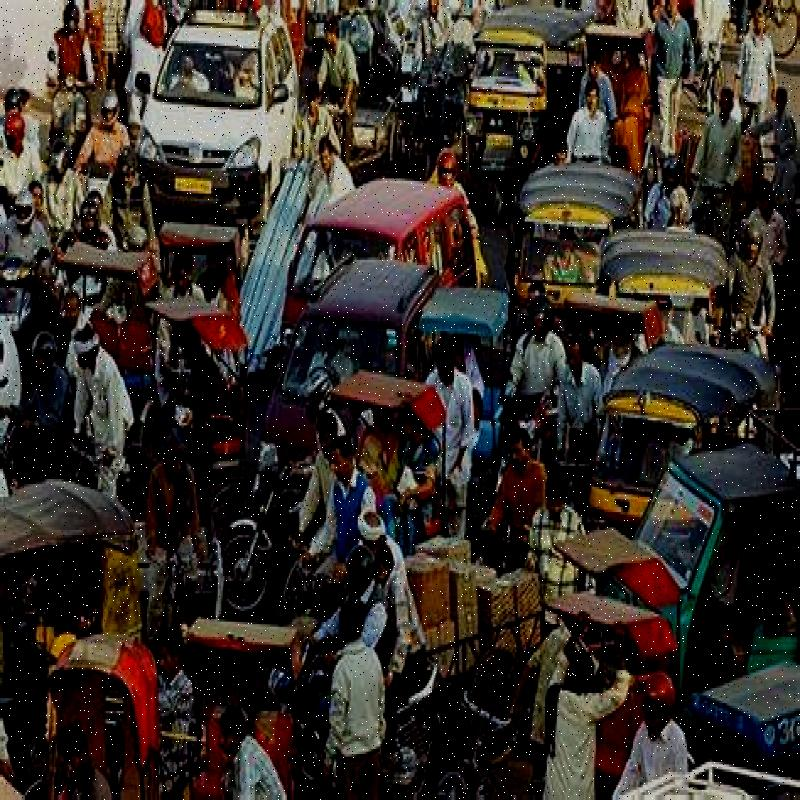car: (272, 274, 424, 534), (129, 7, 301, 218), (306, 165, 449, 341)
